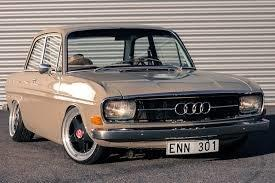license-plates: (168, 140, 220, 156)
